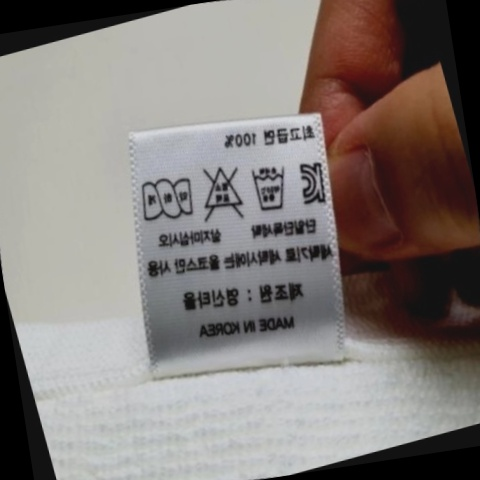hand_wash: (237, 156, 299, 224)
non_chlorine_bleach: (185, 152, 257, 233)
wring: (131, 166, 205, 233)
